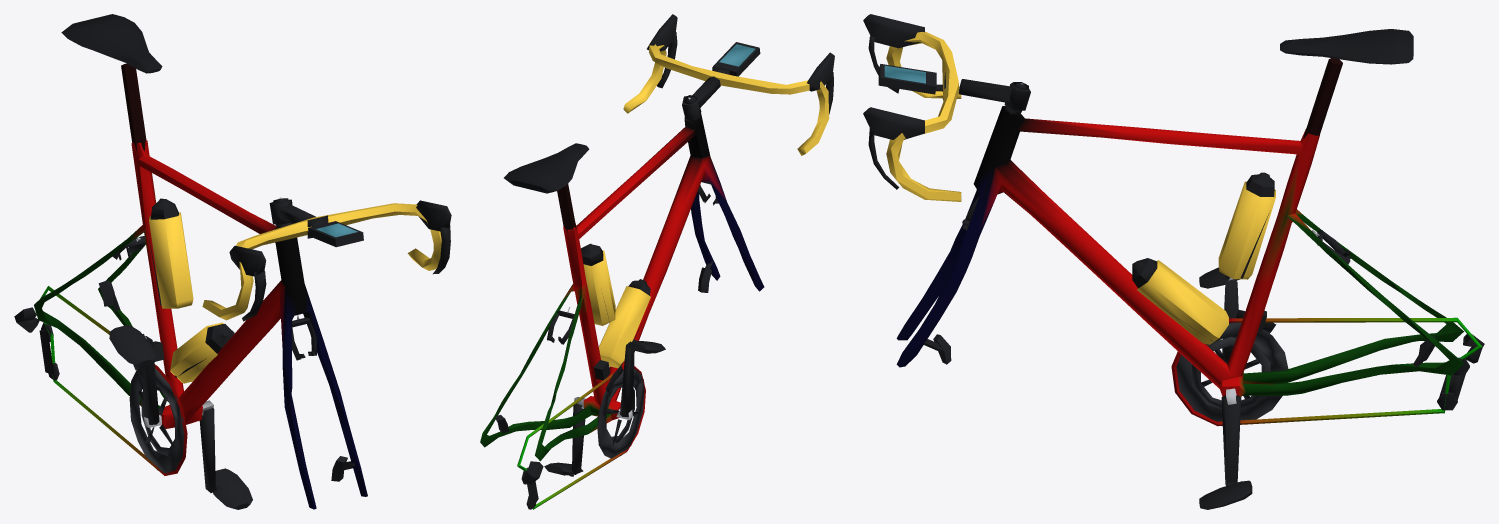
The model's file is climb_lod1.glb.
The picture shows the model from 3 angles, left to right: view 1: azimuth 30°, elevation 25°; view 2: azimuth 150°, elevation 25°; view 3: azimuth 270°, elevation 25°; orthographic projection. The views are drawn at different scales.
Parts seen in each view (by area): view 1: frame, cockpit, opt_bottles, crankset, saddle, pedal_R, opt_derailleur, pedal_L, opt_brakes_rim, opt_brakes_disc; view 2: frame, cockpit, opt_bottles, crankset, saddle, opt_derailleur, opt_brakes_rim, opt_brakes_disc; view 3: frame, cockpit, opt_bottles, crankset, saddle, opt_derailleur, pedal_L, opt_brakes_disc.
Boxes of the visible parts, x1,y1,x2,y2 form: frame: [34, 63, 367, 509]; cockpit: [202, 197, 451, 321]; opt_bottles: [147, 198, 234, 383]; crankset: [129, 336, 215, 492]; saddle: [61, 14, 162, 73]; pedal_R: [109, 325, 155, 366]; opt_derailleur: [14, 307, 164, 380]; pedal_L: [213, 468, 252, 509]; opt_brakes_rim: [112, 236, 316, 360]; opt_brakes_disc: [98, 280, 354, 481]; frame: [480, 113, 764, 509]; cockpit: [623, 14, 834, 155]; opt_bottles: [581, 243, 650, 368]; crankset: [572, 341, 644, 474]; saddle: [504, 143, 589, 193]; opt_derailleur: [521, 360, 622, 509]; opt_brakes_rim: [547, 182, 718, 344]; opt_brakes_disc: [495, 261, 712, 433]; frame: [896, 58, 1482, 426]; cockpit: [863, 14, 1030, 201]; opt_bottles: [1132, 172, 1275, 344]; crankset: [1176, 280, 1288, 485]; saddle: [1280, 29, 1413, 64]; opt_derailleur: [1236, 309, 1484, 410]; pedal_L: [1199, 480, 1252, 509]; opt_brakes_disc: [924, 334, 1435, 367].
Bounding box in the file's own units: 0.4646 × 0.885 × 1.13.
